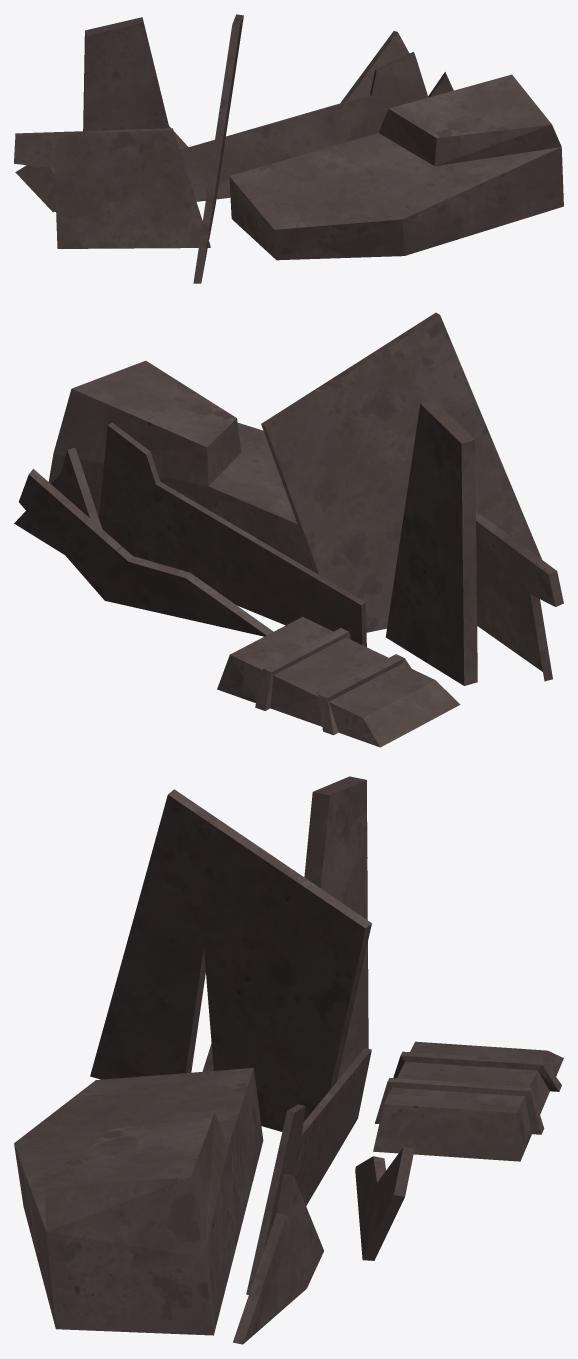
Rendered from Cluster04.fbx.
The picture shows the model from 3 angles, top to bottom: view 1: azimuth 30°, elevation 25°; view 2: azimuth 150°, elevation 25°; view 3: azimuth 270°, elevation 25°; orthographic projection. The views are drawn at different scales.
Visible parts, largest first — view 1: SM_ENV_STRUCT_ScrapYard_Debris_Cluster_04.mo; view 2: SM_ENV_STRUCT_ScrapYard_Debris_Cluster_04.mo; view 3: SM_ENV_STRUCT_ScrapYard_Debris_Cluster_04.mo.
Boxes of the visible parts, x1=… form: SM_ENV_STRUCT_ScrapYard_Debris_Cluster_04.mo: x1=14, y1=14, x2=563, y2=283; SM_ENV_STRUCT_ScrapYard_Debris_Cluster_04.mo: x1=14, y1=312, x2=563, y2=747; SM_ENV_STRUCT_ScrapYard_Debris_Cluster_04.mo: x1=14, y1=776, x2=563, y2=1344.
Size of the model in its own units: 632 by 287 by 433.
1 material, 1 textured.
